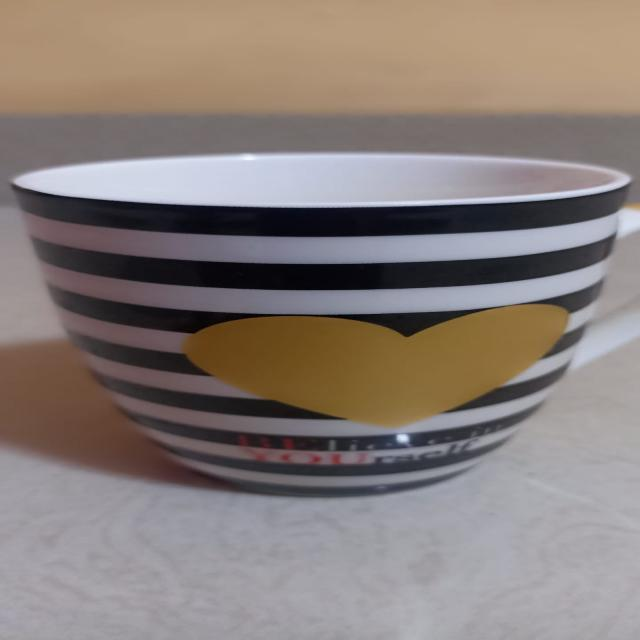cup: (18, 144, 640, 505)
